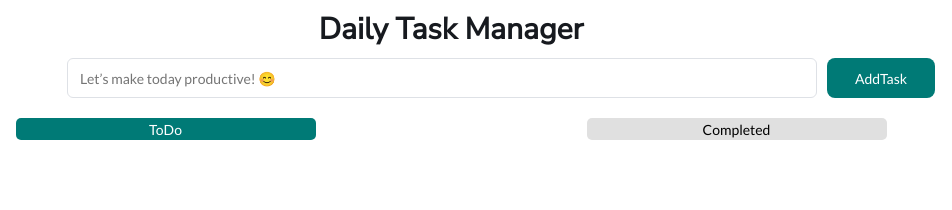
marks task as completed
The width and height of the screenshot is (952, 210).
Step 1. Type "Learn Testing" into the field with placeholder "Let’s make today productive! 😊" → (442, 78), box [67,58,817,98]
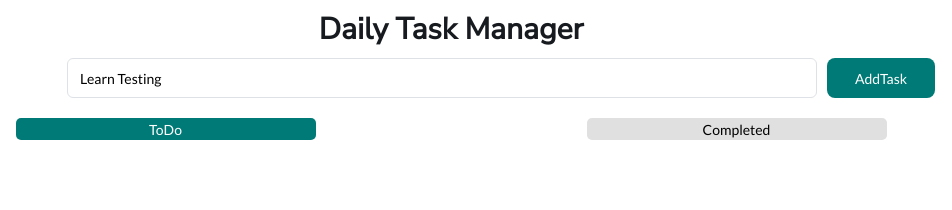
Step 2. Click the button "AddTask" → (881, 78), box [827,58,935,98]
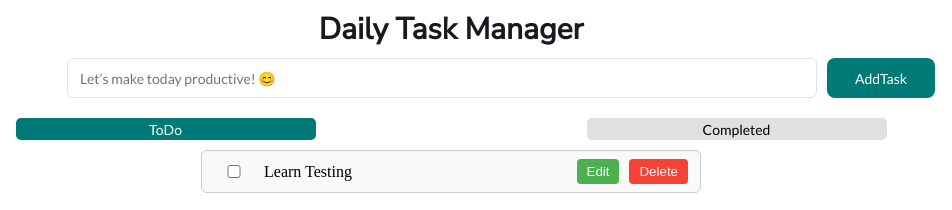
Step 3. Click the checkbox → (234, 172), box [214,165,254,178]
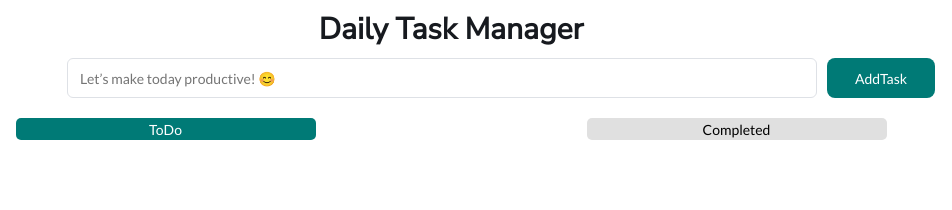
Step 4. Click the button "Completed" → (736, 129), box [586,118,886,140]
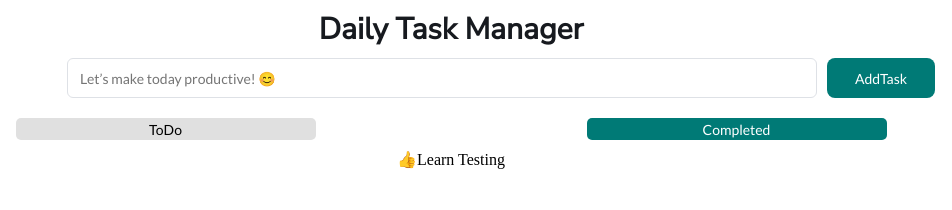
Result: the text "👍Learn Testing" is shown at [397,151,505,168]
